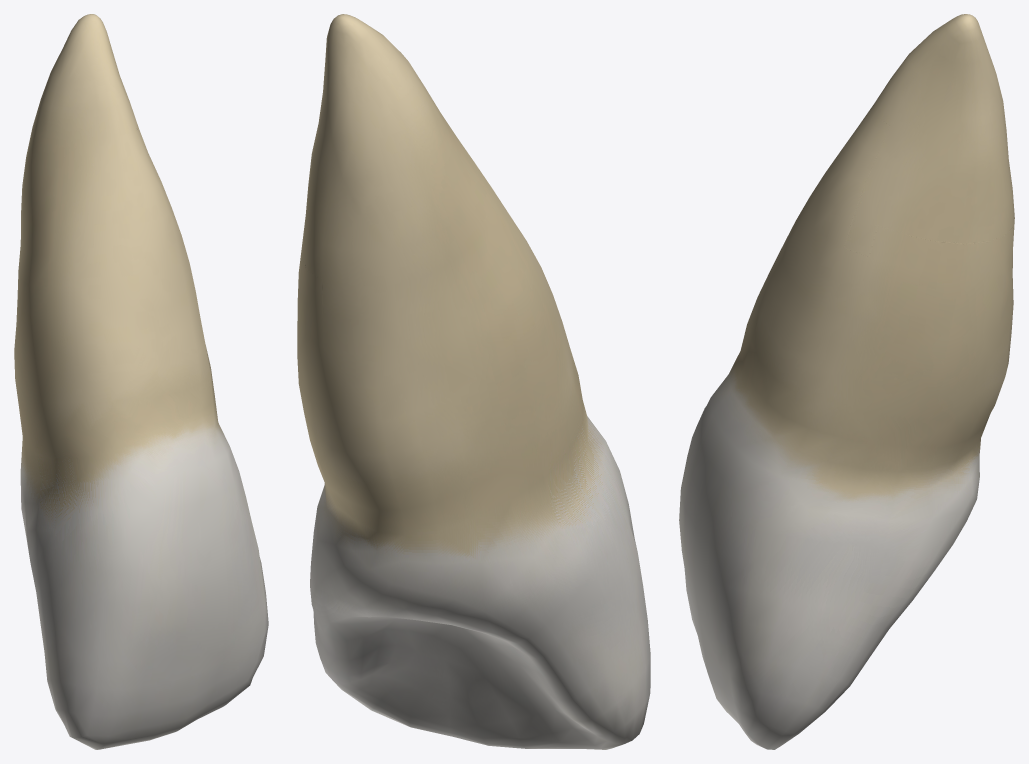
Rendered from tooth-21.glb.
3 renders of one model, left to right at view 1: azimuth 30°, elevation 25°; view 2: azimuth 150°, elevation 25°; view 3: azimuth 270°, elevation 25°, orthographic. The views are drawn at different scales.
Visible parts, largest first — view 1: polySurface1_UL1_0; view 2: polySurface1_UL1_0; view 3: polySurface1_UL1_0.
Part boxes in pixels (box(x1,y1,x2,y2)): polySurface1_UL1_0: box(14, 14, 268, 749); polySurface1_UL1_0: box(297, 14, 650, 749); polySurface1_UL1_0: box(679, 14, 1014, 749).
Size of the model in its own units: 0.2879 by 0.7834 by 0.3327.
1 material, 1 textured.
